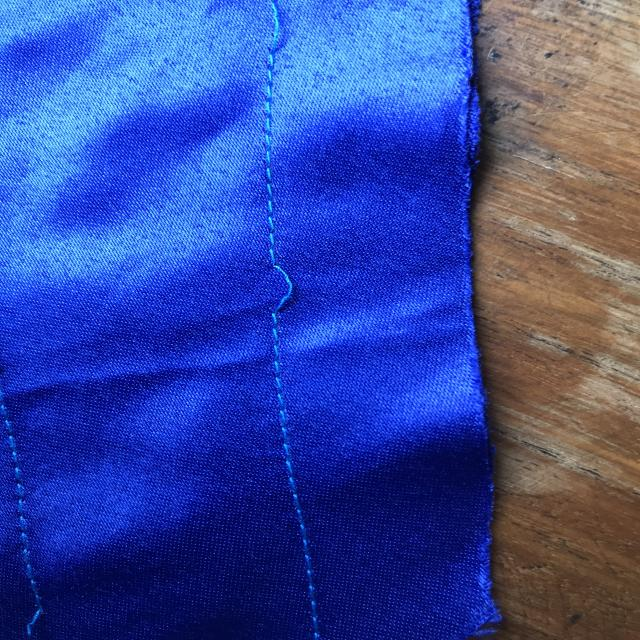skip: (235, 236, 323, 330), (238, 0, 312, 72)
